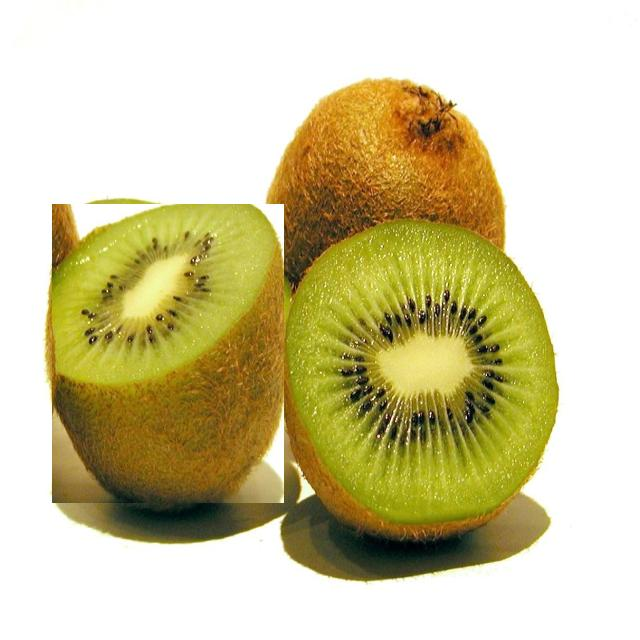Qiwi: (292, 210, 544, 562), (52, 204, 284, 503), (243, 76, 519, 261)
